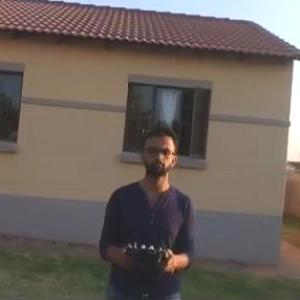follow: (96, 120, 202, 299)
